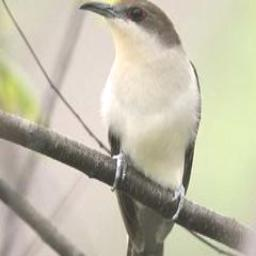Cuckoo: (78, 0, 203, 256)
